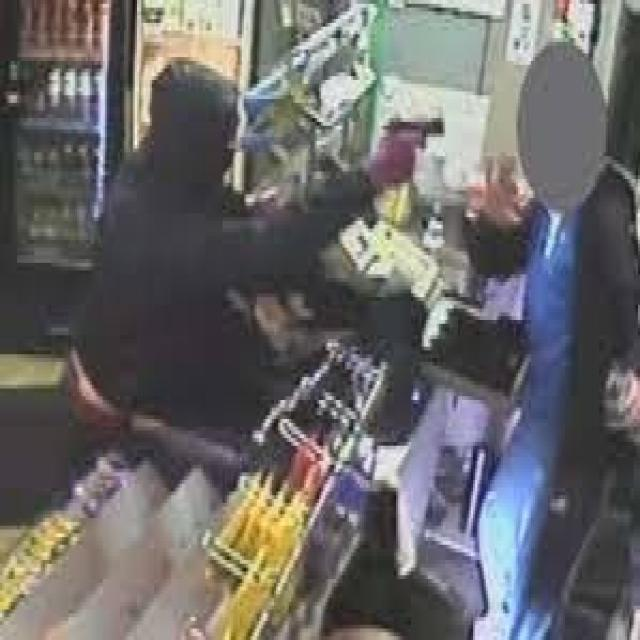weapon: (377, 106, 447, 176)
